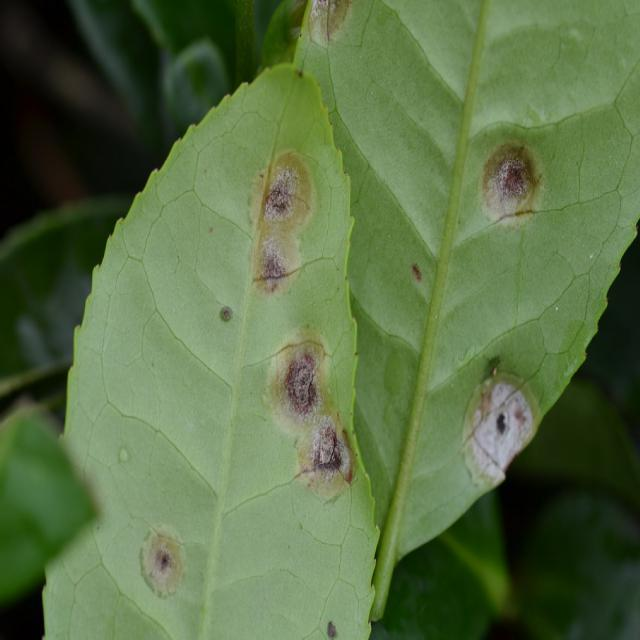Tea cake: (464, 362, 536, 477), (482, 131, 557, 227), (249, 155, 322, 230), (277, 332, 335, 413), (304, 421, 361, 492), (249, 229, 311, 285), (141, 524, 185, 595)
